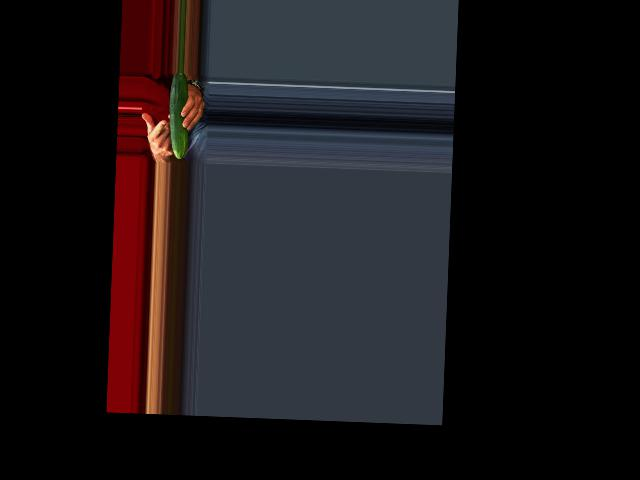cucumber: (167, 72, 191, 159)
